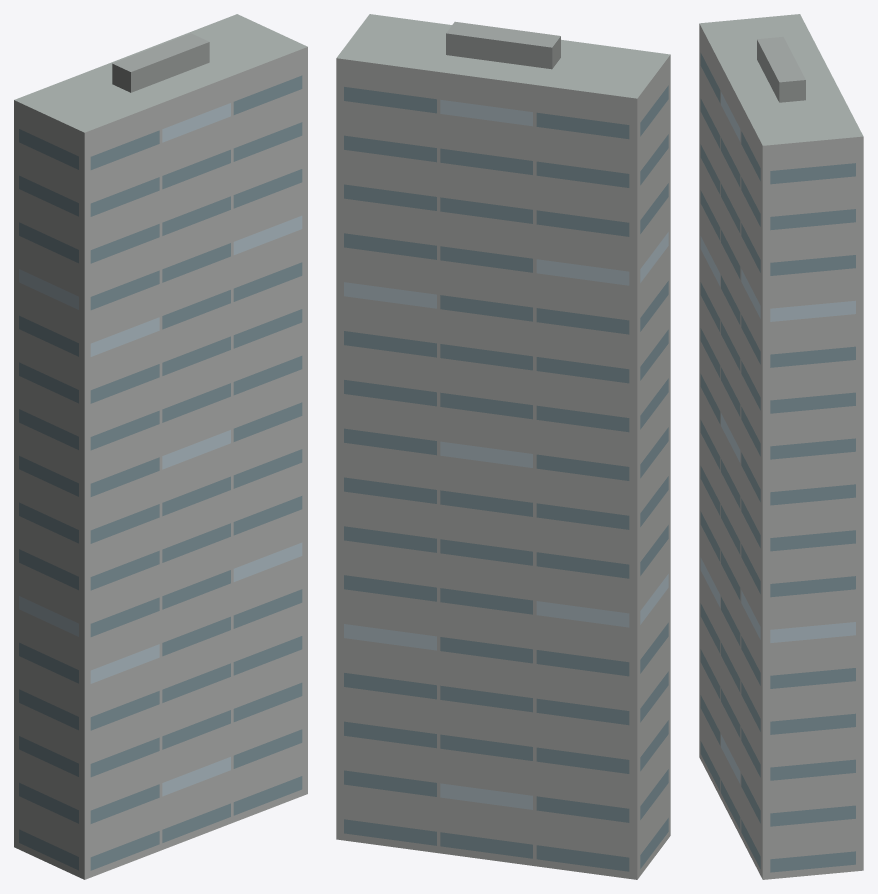
File: fallback-jamsil-parkrio-220.glb
The picture shows the model from 3 angles, left to right: view 1: azimuth 30°, elevation 25°; view 2: azimuth 150°, elevation 25°; view 3: azimuth 270°, elevation 25°; orthographic projection. The views are drawn at different scales.
Visible parts, largest first — view 1: fallback-jamsil-parkrio-220; view 2: fallback-jamsil-parkrio-220; view 3: fallback-jamsil-parkrio-220.
Part boxes in pixels (<box>): fallback-jamsil-parkrio-220: <box>14,14,307,879</box>; fallback-jamsil-parkrio-220: <box>336,14,670,879</box>; fallback-jamsil-parkrio-220: <box>699,14,863,879</box>.
Bounding box in the file's own units: 33.36 × 89 × 17.56.
